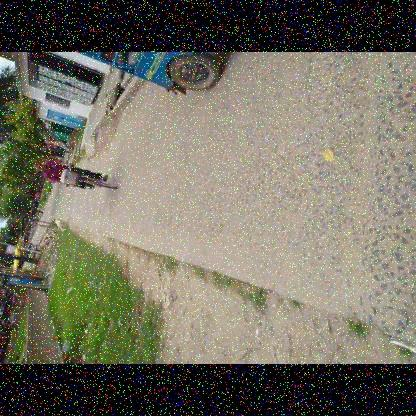Bicycle: (56, 150, 124, 205)
